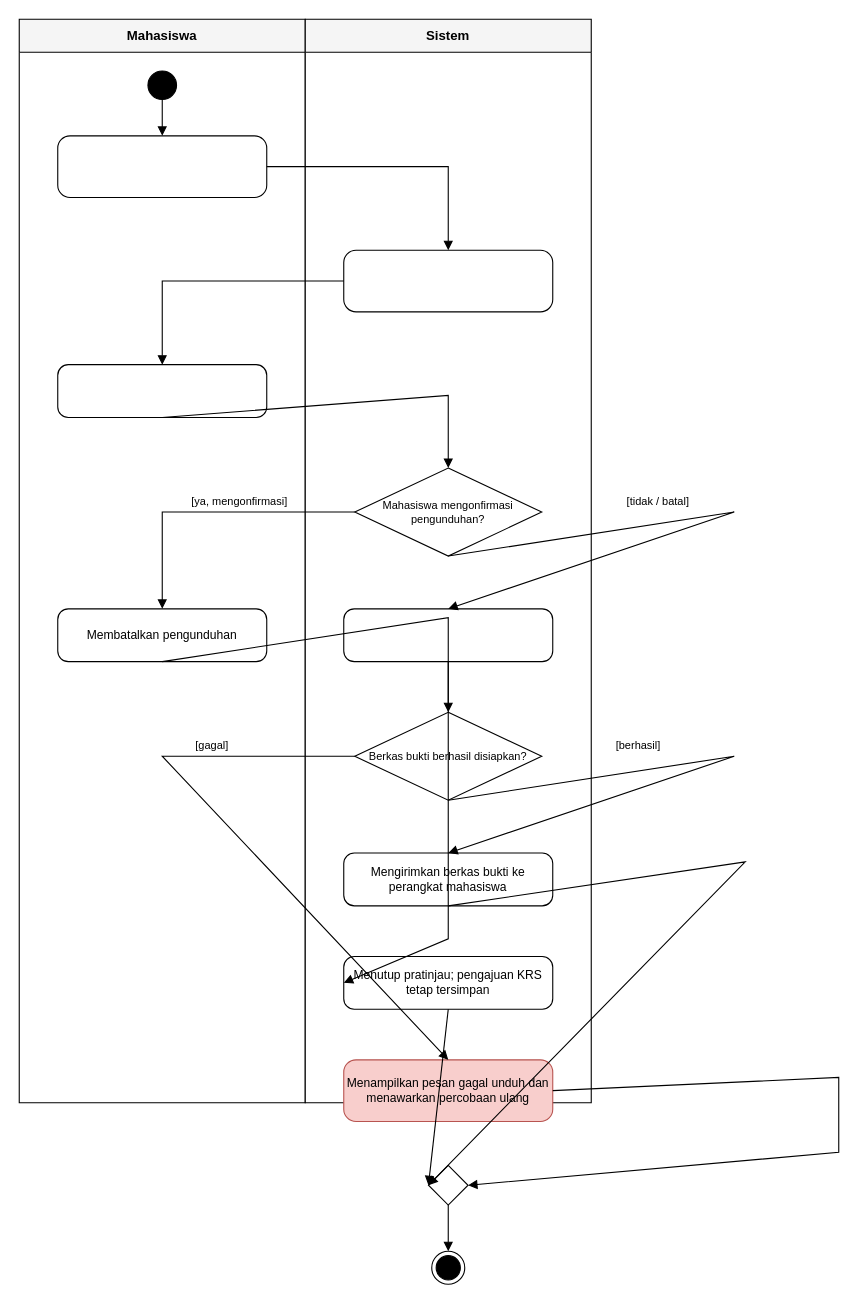
Some shapes in this 867 by 1304 pixel diagram are drawn without their labels. Here are the shapes that lost their labels. From the top down, the centre of each, then its label:
(x=162, y=166): Memilih Unduh Bukti Pengajuan KRS pada konfirmasi pengajuan
(x=448, y=280): Menampilkan pratinjau bukti: nomor pengajuan, daftar mata kuliah, dan status
(x=162, y=390): Mengonfirmasi pengunduhan
(x=448, y=635): Menyiapkan berkas bukti pengajuan dalam format PDF
